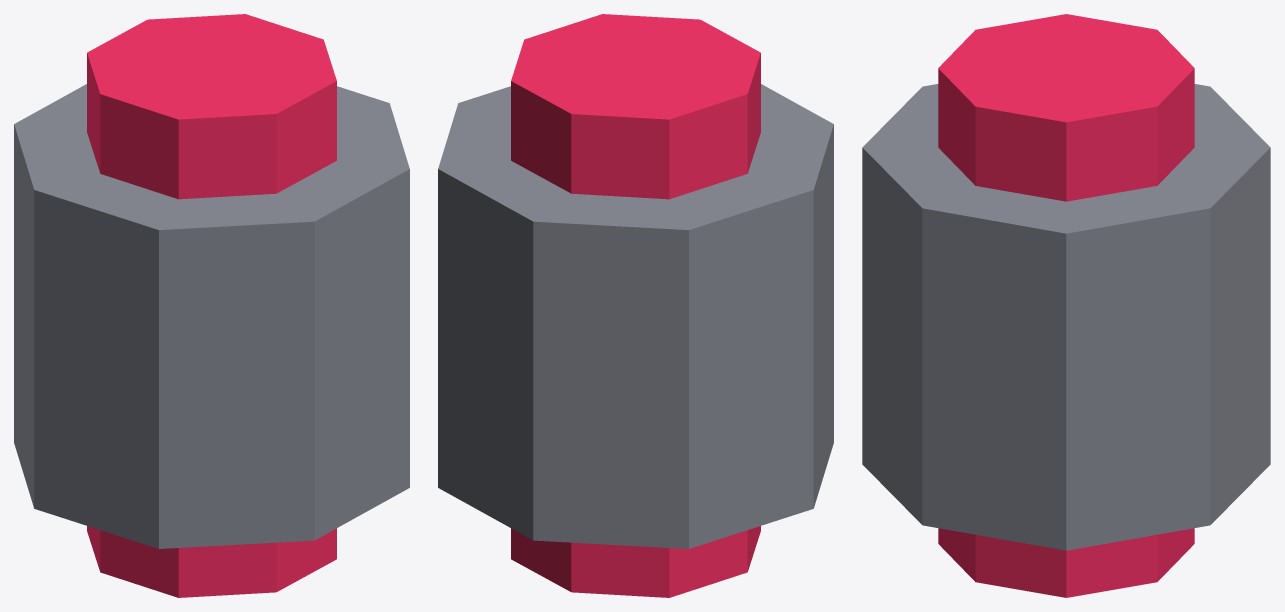
File: item_F2_PlasmaGrenade.obj
3 views of the same model, side by side, from view 1: azimuth 30°, elevation 25°; view 2: azimuth 150°, elevation 25°; view 3: azimuth 270°, elevation 25° (orthographic).
Visible parts, largest first — view 1: Item_F2_PlasmaGrenade, Item_F2_PlasmaGrenade_Core; view 2: Item_F2_PlasmaGrenade, Item_F2_PlasmaGrenade_Core; view 3: Item_F2_PlasmaGrenade, Item_F2_PlasmaGrenade_Core.
Boxes of the visible parts, <box> form: Item_F2_PlasmaGrenade: <box>14,84,409,548</box>; Item_F2_PlasmaGrenade_Core: <box>87,14,336,597</box>; Item_F2_PlasmaGrenade: <box>438,84,833,548</box>; Item_F2_PlasmaGrenade_Core: <box>511,14,760,597</box>; Item_F2_PlasmaGrenade: <box>862,84,1270,550</box>; Item_F2_PlasmaGrenade_Core: <box>938,14,1194,597</box>.
Size of the model in its own units: 0.07 by 0.09 by 0.07.
